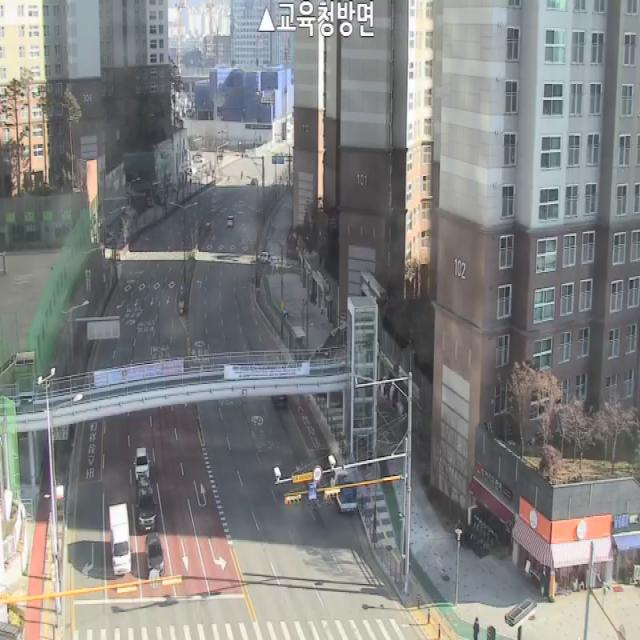Car: (136, 478, 157, 530), (145, 532, 165, 576), (134, 447, 150, 478), (227, 216, 234, 226)
Truck: (110, 502, 132, 576), (331, 470, 357, 512)
